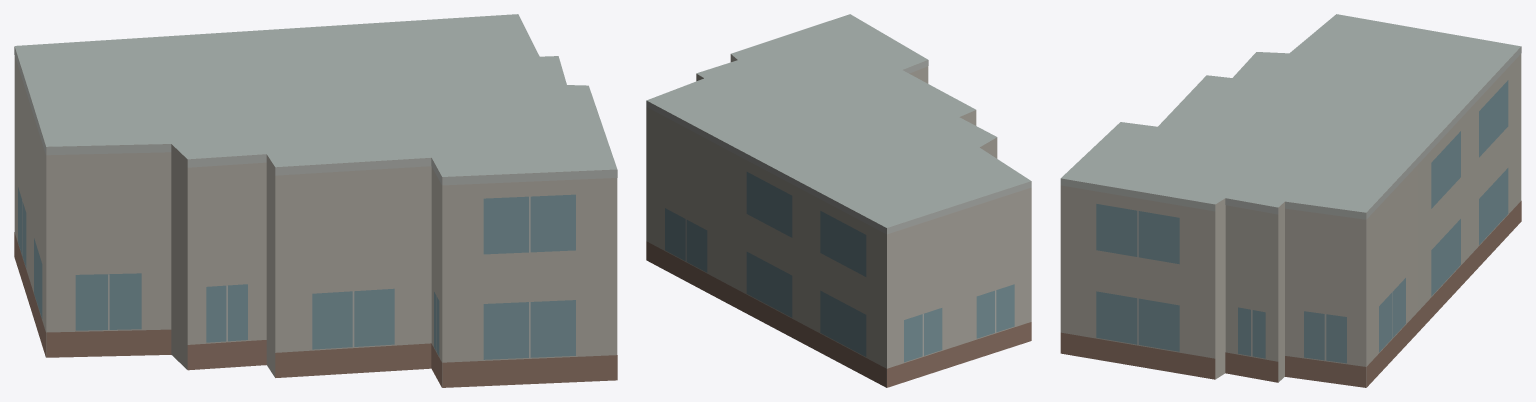
File: survey-upis-32722581.glb
3 renders of one model, left to right at view 1: azimuth 30°, elevation 25°; view 2: azimuth 150°, elevation 25°; view 3: azimuth 270°, elevation 25°, orthographic. The views are drawn at different scales.
Visible parts, largest first — view 1: survey-upis-32722581.tmp; view 2: survey-upis-32722581.tmp; view 3: survey-upis-32722581.tmp.
Part boxes in pixels (x1,y1,x2,y2): survey-upis-32722581.tmp: (14, 14, 617, 387); survey-upis-32722581.tmp: (646, 14, 1031, 387); survey-upis-32722581.tmp: (1060, 14, 1521, 387).
Size of the model in its own units: 14.85 by 6.1 by 14.55.
